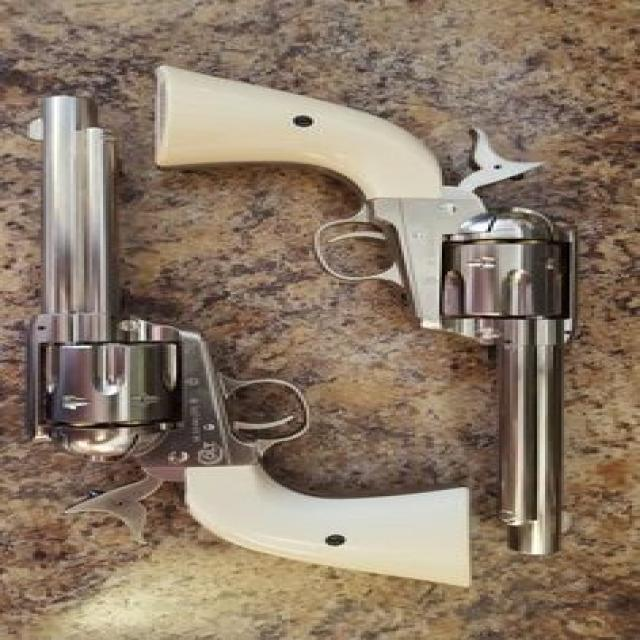revolver: (4, 49, 638, 588)
